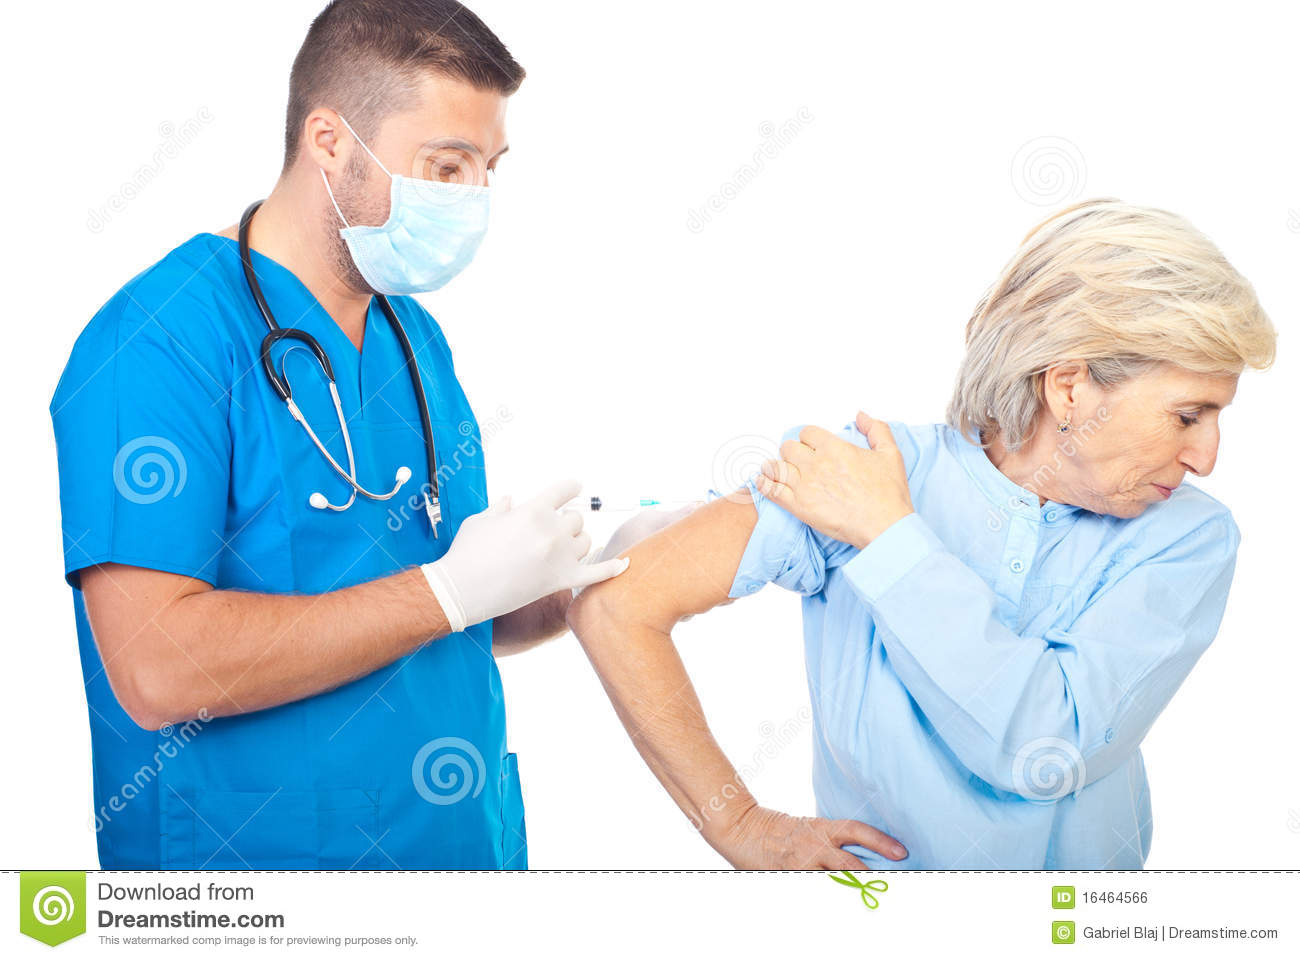mask: (346, 173, 489, 293)
